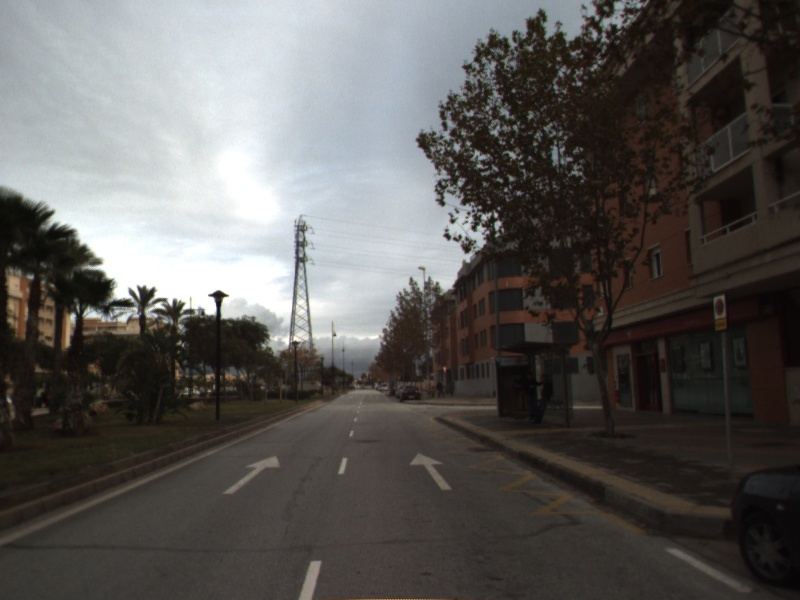STRAIGHT: (221, 454, 282, 496), (407, 451, 454, 491)
